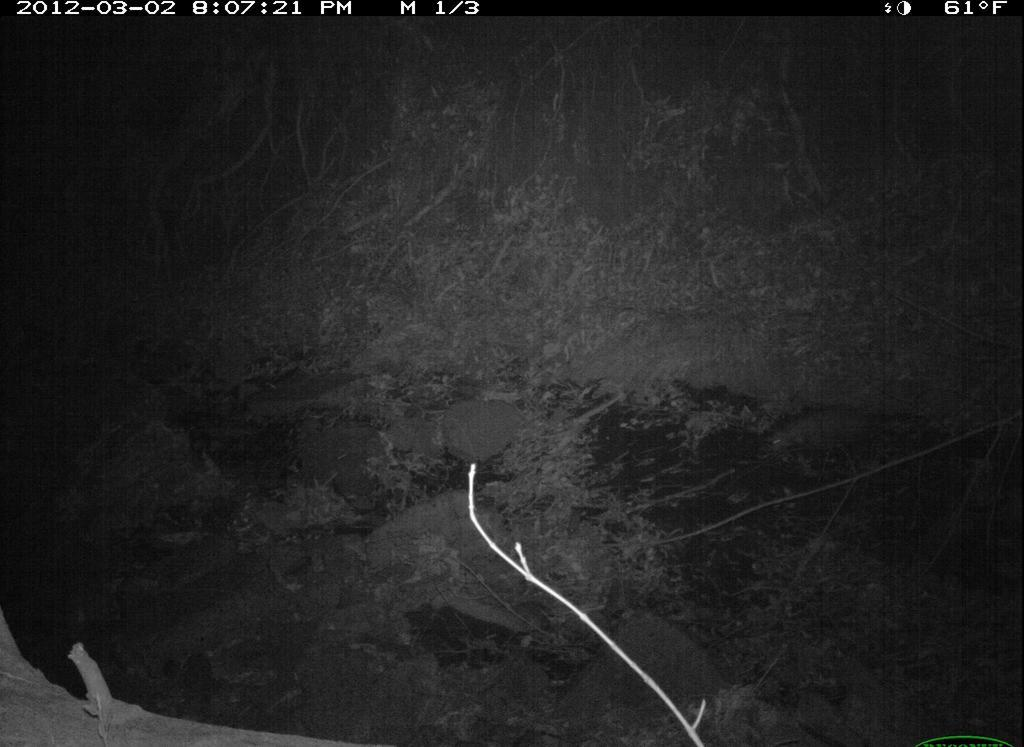opossum: (765, 392, 900, 481)
